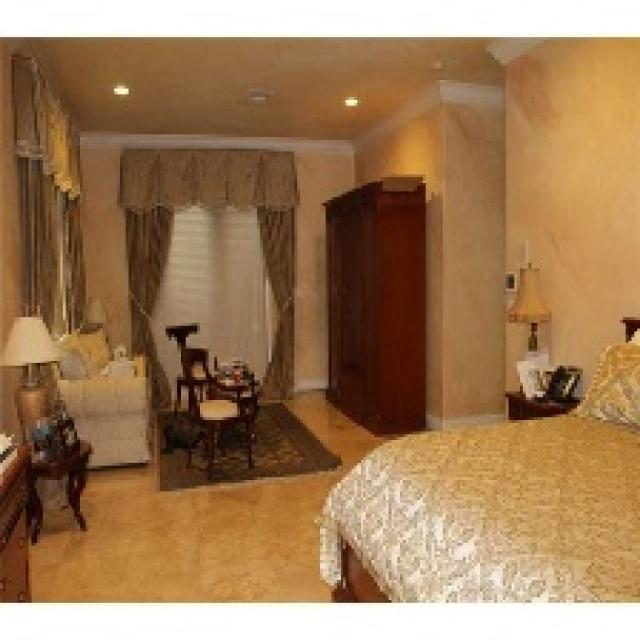Bed: (317, 314, 637, 603)
